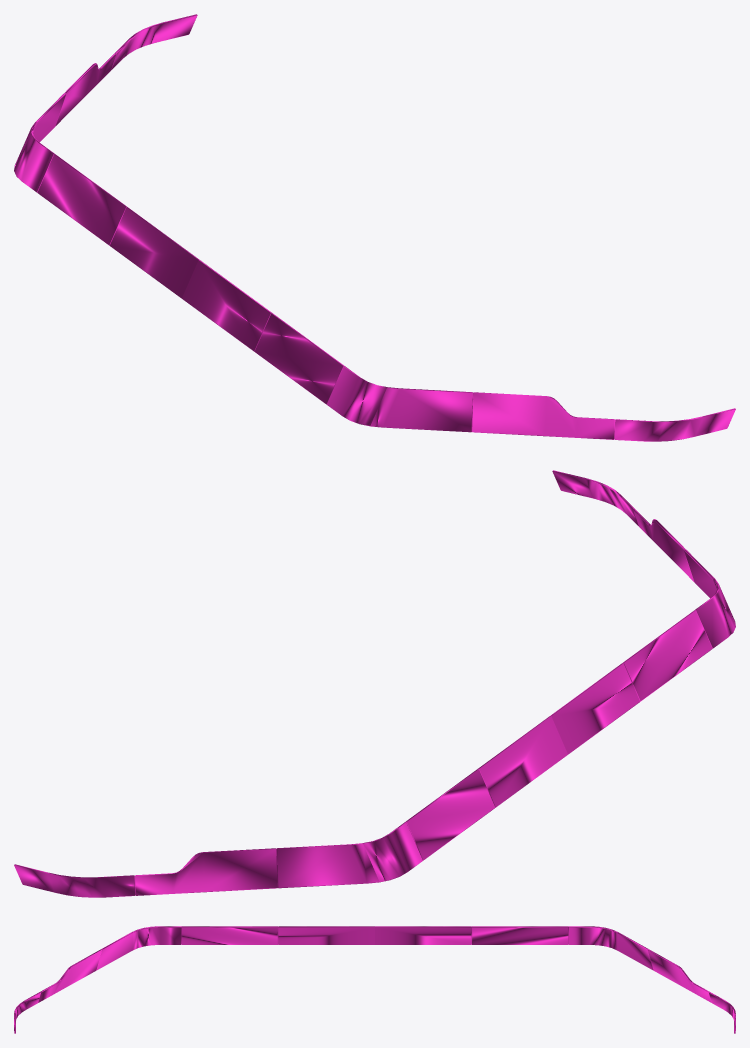
Rendered from plate_trim_32m_a_balcony_glass.glb.
The picture shows the model from 3 angles, top to bottom: view 1: azimuth 30°, elevation 25°; view 2: azimuth 150°, elevation 25°; view 3: azimuth 270°, elevation 25°; orthographic projection. The views are drawn at different scales.
Size of the model in its own units: 8.48 by 1.01 by 27.87.
